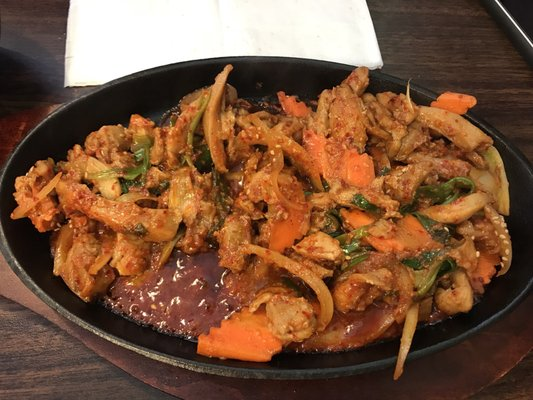curry: (10, 0, 532, 396)
pizza: (277, 91, 311, 118)
